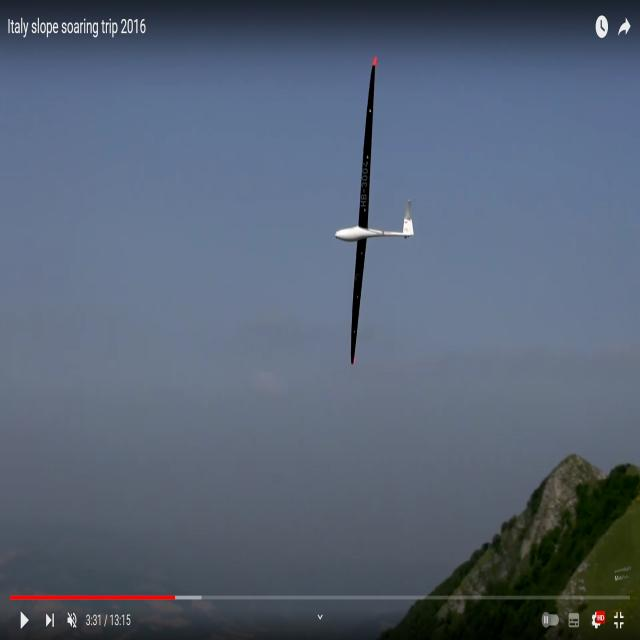iha: (368, 66, 383, 374)
